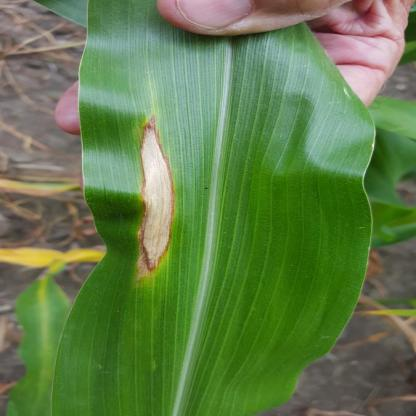corn leaf blight: (73, 37, 351, 412)
